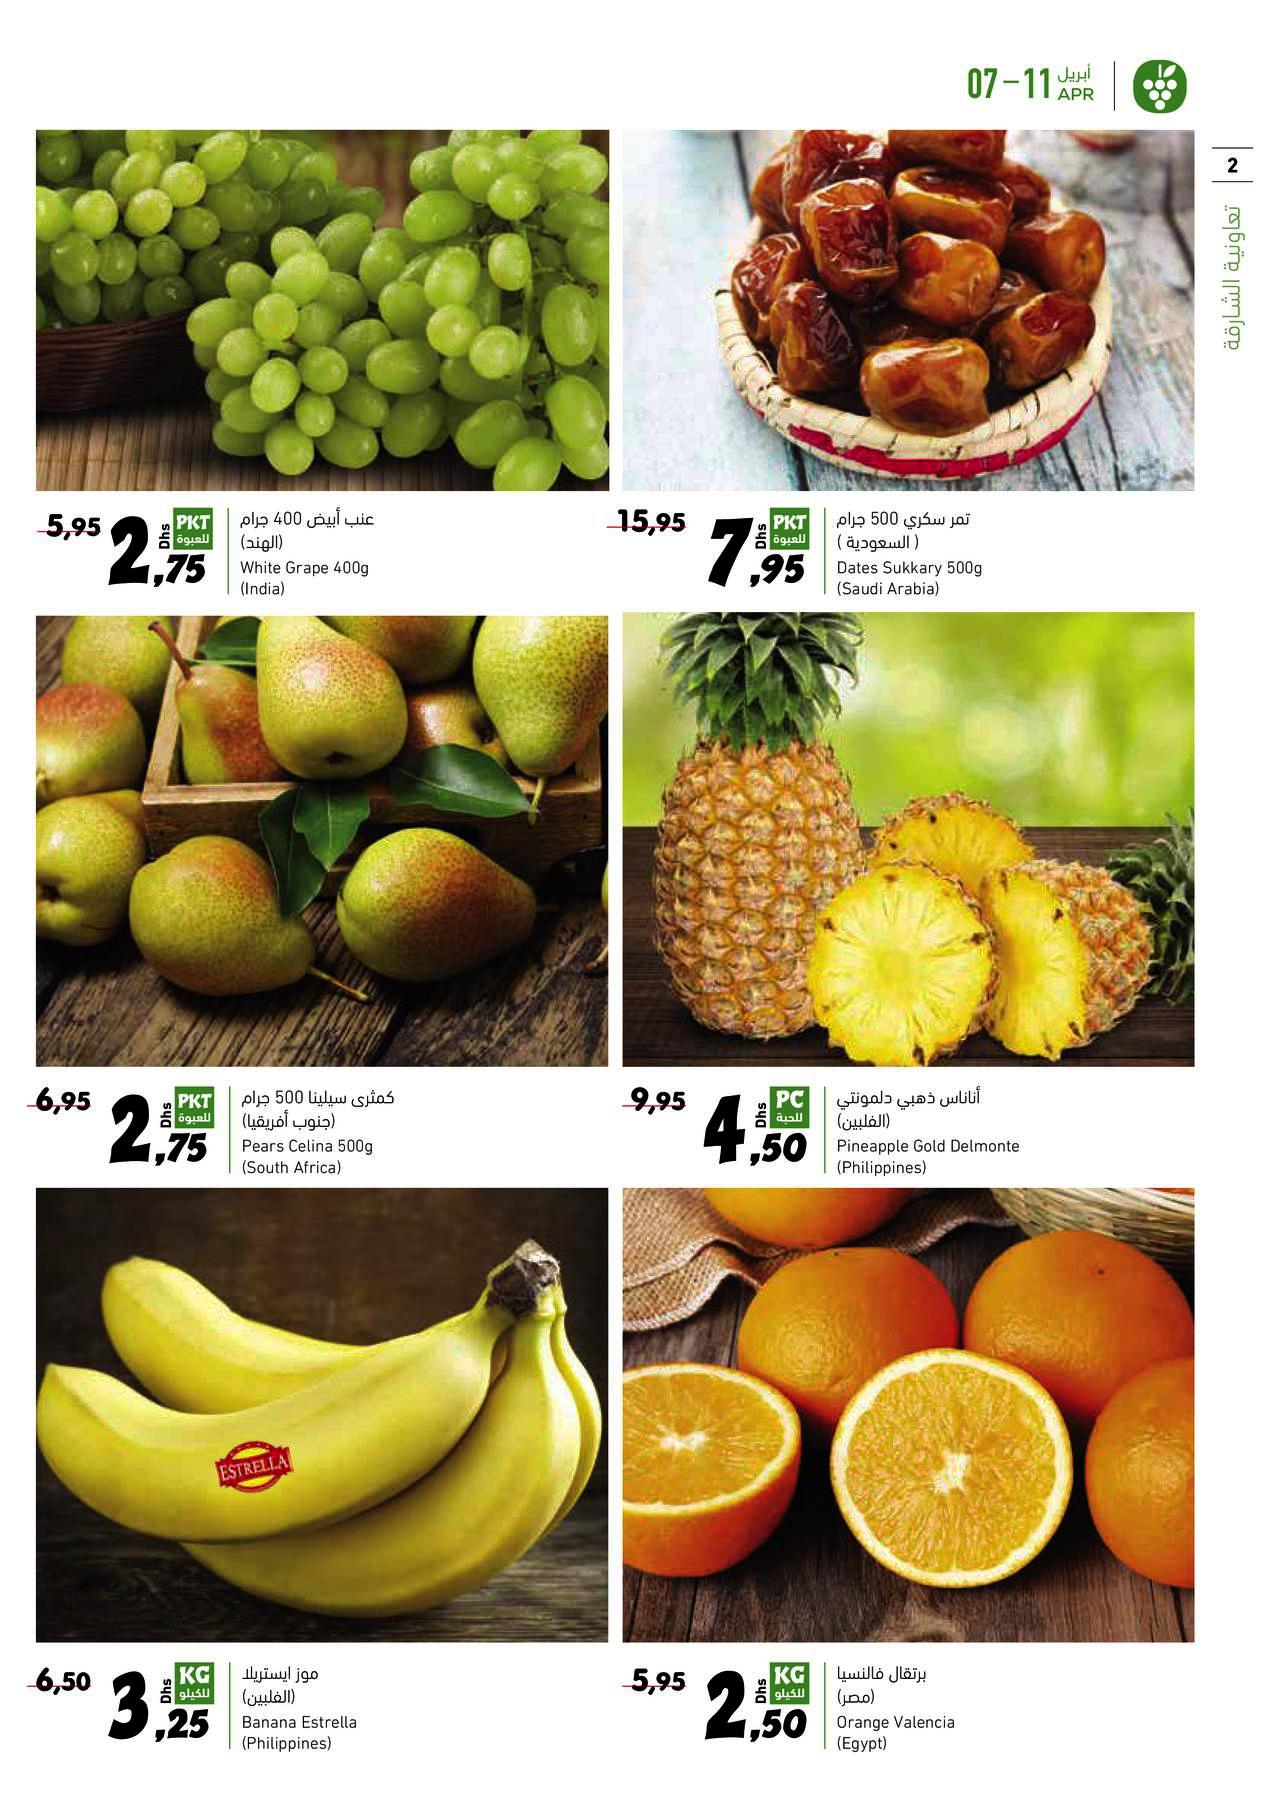text: (827, 1084, 1036, 1180), (233, 1085, 413, 1180), (829, 504, 993, 602), (234, 503, 391, 603), (829, 1655, 970, 1761), (236, 1658, 365, 1759)
